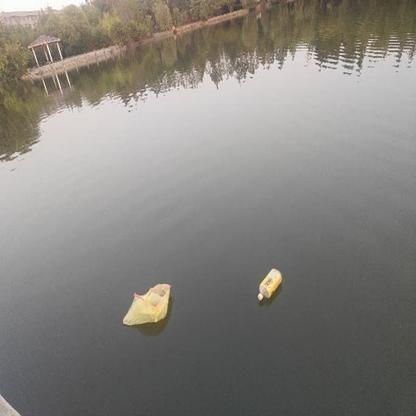plastic bag: (120, 283, 171, 325)
plastic bottle: (257, 268, 282, 301)
